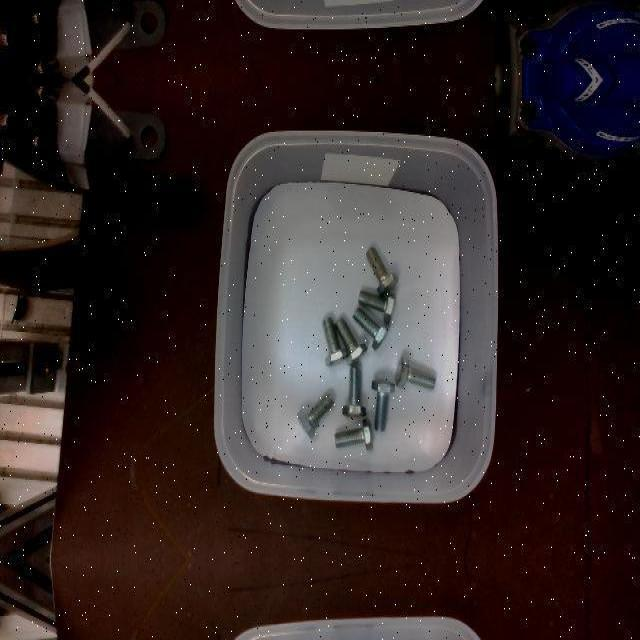screw: (297, 391, 334, 437), (366, 246, 399, 296), (335, 317, 367, 367), (352, 306, 388, 350), (395, 354, 436, 390), (357, 290, 395, 324), (322, 316, 347, 366), (370, 378, 394, 430), (334, 418, 373, 450), (343, 367, 366, 417)
